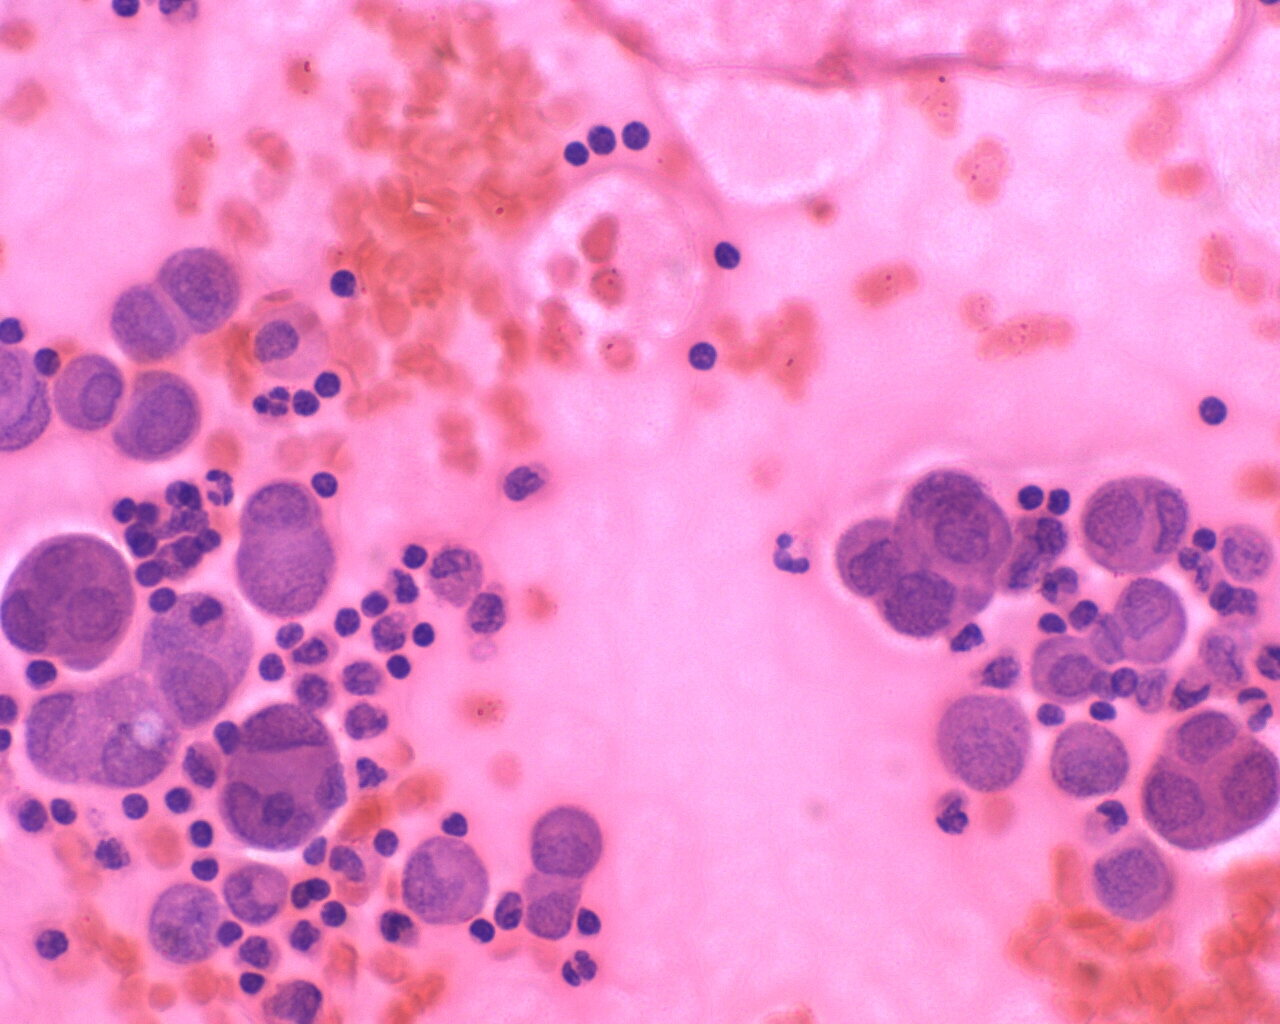ab: (1, 526, 138, 678), (1143, 706, 1280, 856), (220, 707, 346, 853), (1080, 470, 1188, 577), (930, 689, 1037, 792), (107, 363, 210, 452), (159, 239, 250, 334), (1089, 829, 1176, 923), (1042, 715, 1132, 805), (1111, 571, 1190, 670), (876, 560, 970, 639), (111, 276, 186, 369), (523, 802, 607, 885), (1032, 632, 1111, 706)
lymph: (616, 114, 662, 154), (709, 232, 749, 277), (1193, 385, 1233, 429), (686, 336, 723, 378), (560, 138, 599, 172)
neutro: (761, 527, 818, 577), (193, 462, 246, 510), (251, 383, 294, 430), (560, 950, 606, 992)
